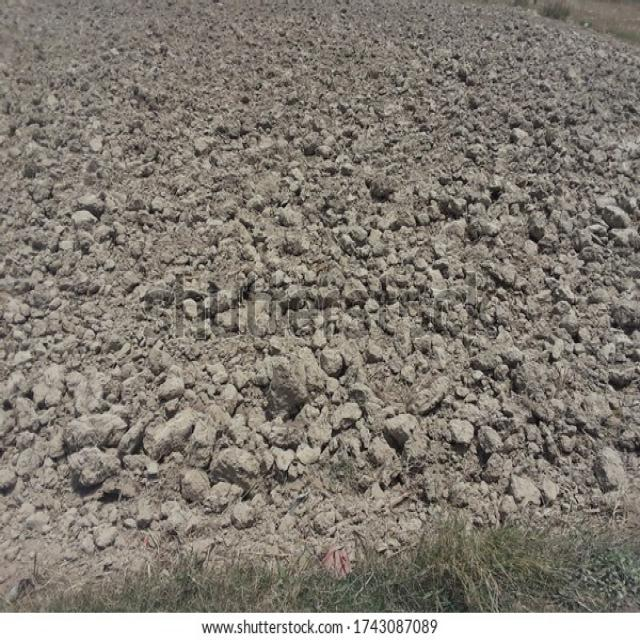Alluvial Soil: (38, 72, 578, 450)
